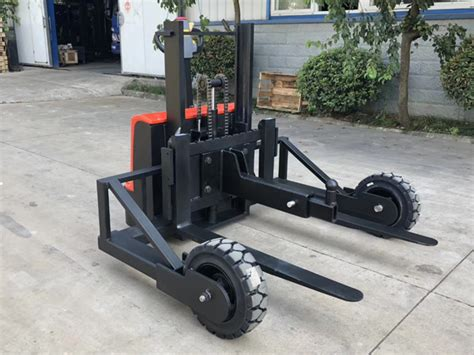Pallet Jack: (92, 18, 438, 340)
